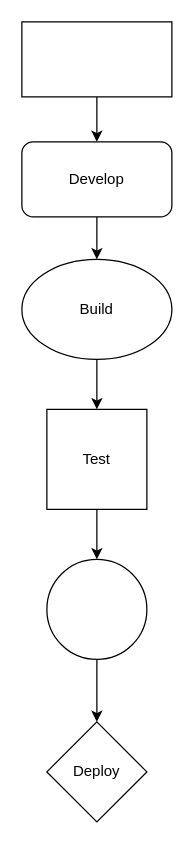
Some shapes in this 194 by 844 pixel diagram are drawn without their labels. The shapes that lost their labels are listed below. From the top down, each one's centre as x and y in pixels, then its label:
At [96,59]: "Plan".
At [96,608]: "Release".
